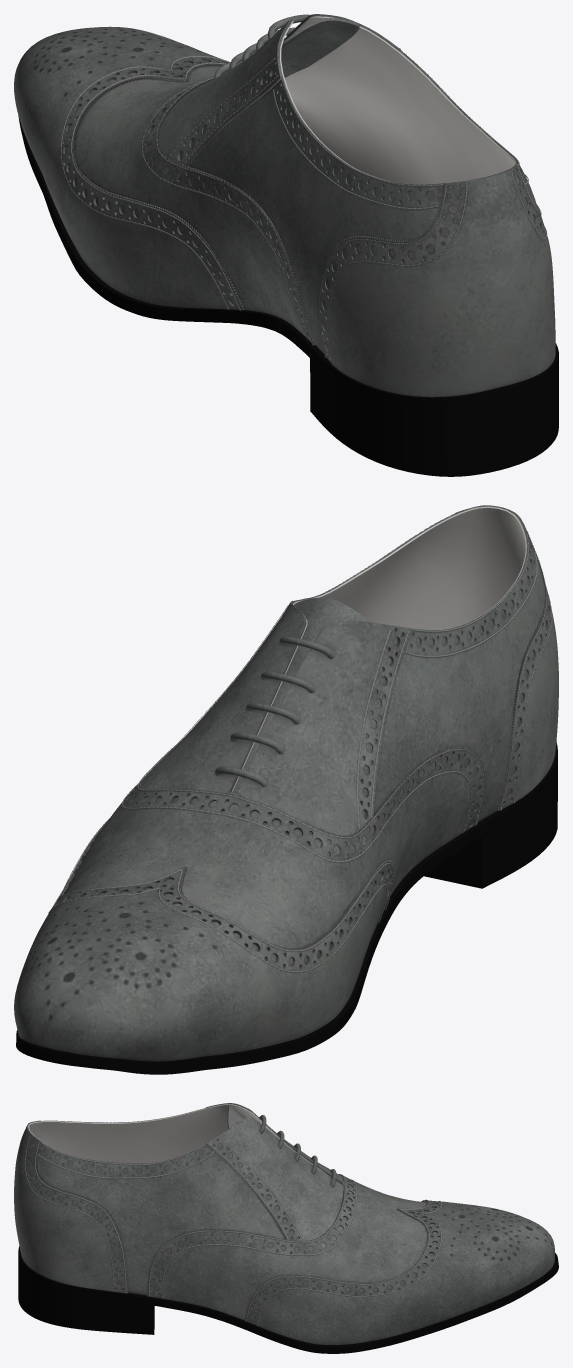
Rendered from Shoe Sole Fixed.glb.
3 renders of one model, top to bottom at view 1: azimuth 30°, elevation 25°; view 2: azimuth 150°, elevation 25°; view 3: azimuth 270°, elevation 25°, orthographic. The views are drawn at different scales.
Visible parts, largest first — view 1: Back_Cap, Toe_Cap, Sole, Quarter, Upper, Linning, Facing, Stiches, Tounge, Shoe Laces; view 2: Toe_Cap, Upper, Facing, Quarter, Linning, Sole, Back_Cap, Stiches, Tounge, Shoe Laces; view 3: Toe_Cap, Upper, Quarter, Back_Cap, Sole, Facing, Linning, Stiches, Shoe Laces.
Boxes of the visible parts, x1,y1,x2,y2 form: Back_Cap: (317,165,555,397); Toe_Cap: (14,26,244,310); Sole: (18,115,558,476); Quarter: (179,15,540,354); Upper: (65,60,315,345); Linning: (279,16,516,184); Facing: (145,14,401,182); Stiches: (60,48,547,365); Tounge: (281,18,360,77); Shoe Laces: (213,14,309,78); Toe_Cap: (14,821,394,1061); Upper: (64,744,485,967); Facing: (126,601,413,858); Quarter: (230,505,549,834); Linning: (222,506,526,811); Sole: (16,741,557,1074); Back_Cap: (455,505,558,810); Stiches: (48,513,552,972); Tounge: (222,597,367,812); Shoe Laces: (215,636,334,786); Toe_Cap: (244,1200,554,1344); Upper: (147,1174,439,1323); Quarter: (27,1103,341,1295); Back_Cap: (14,1120,127,1293); Sole: (18,1246,558,1353); Facing: (205,1103,353,1253); Linning: (28,1104,328,1175); Stiches: (25,1122,442,1325); Shoe Laces: (258,1115,336,1187).
Size of the model in its own units: 0.0211 by 0.0232 by 0.0581.
7 materials, 4 textured.
